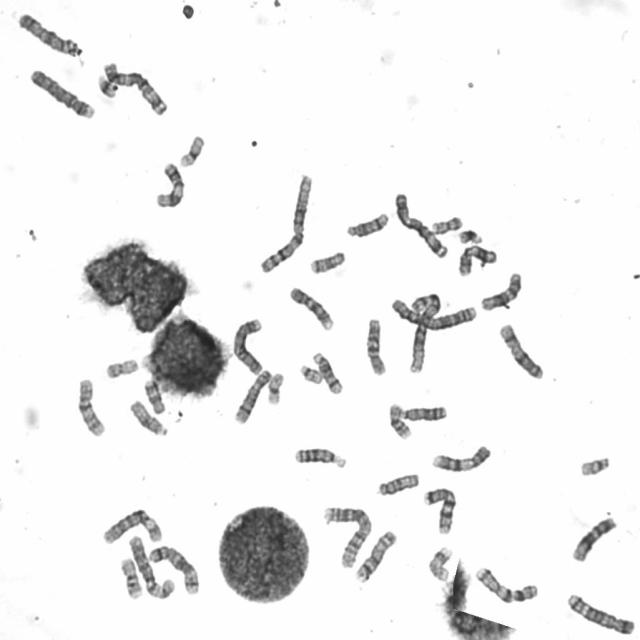A1: (257, 170, 314, 276), (407, 290, 442, 376)
A2: (319, 502, 373, 570), (388, 294, 478, 332)
A3: (392, 189, 450, 260), (100, 59, 169, 118)
B4: (27, 66, 96, 120), (230, 315, 265, 376)
B5: (564, 590, 636, 636), (146, 543, 201, 596)
C10: (74, 375, 106, 439), (363, 314, 388, 378)
C11: (152, 159, 185, 210), (455, 242, 498, 278)
C12: (569, 514, 619, 564), (478, 269, 523, 313)
C6: (126, 532, 176, 601), (99, 505, 164, 546)
C7: (472, 564, 540, 604), (421, 484, 458, 536)
C8: (352, 527, 398, 584), (230, 366, 272, 426)
C9: (286, 283, 334, 332), (428, 442, 493, 474)
D13: (292, 444, 348, 470), (396, 403, 448, 422)
D14: (309, 348, 344, 396), (344, 210, 391, 238)
D15: (127, 397, 169, 438), (375, 470, 420, 498)
E16: (116, 554, 144, 600), (386, 400, 413, 441)
E17: (426, 544, 454, 582), (140, 350, 166, 388)
E18: (306, 248, 346, 275), (143, 379, 170, 416)
F19: (176, 132, 206, 168), (264, 369, 285, 407)
F20: (102, 355, 140, 380), (428, 213, 464, 235)
G21: (95, 72, 119, 100), (455, 226, 485, 246)
G22: (577, 453, 612, 478), (297, 362, 324, 385)
X: (14, 9, 80, 57), (496, 321, 545, 382)
